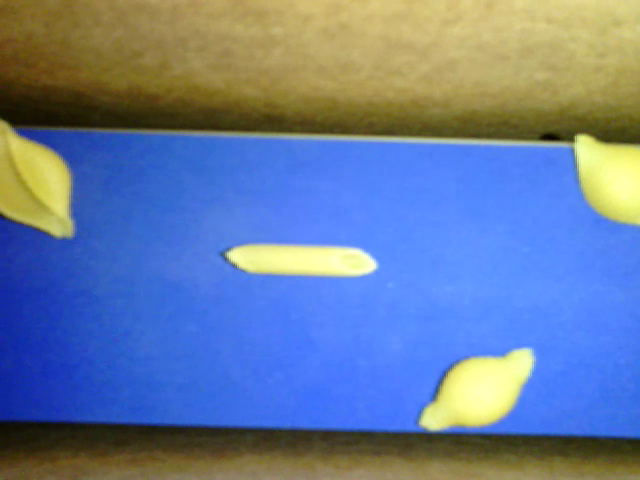penne: (221, 242, 380, 277)
shell: (416, 347, 535, 433), (1, 119, 75, 239), (572, 134, 639, 223)
